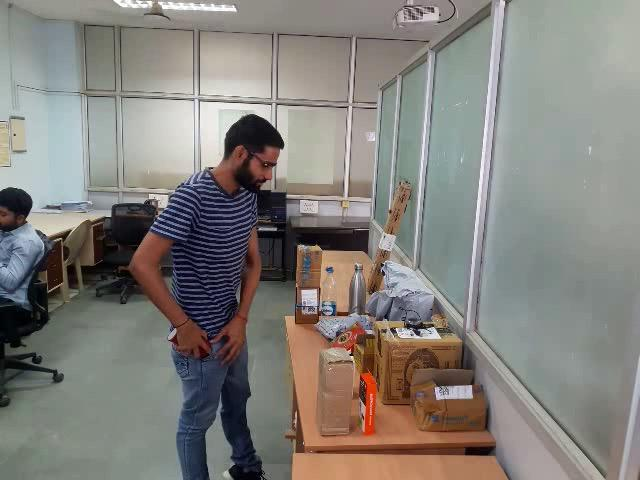Shoplifting: (125, 94, 320, 480)
